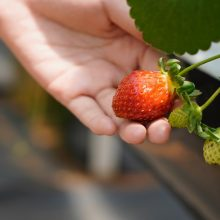ripe: (105, 62, 189, 125)
unripe: (169, 104, 203, 133), (200, 128, 220, 166)
